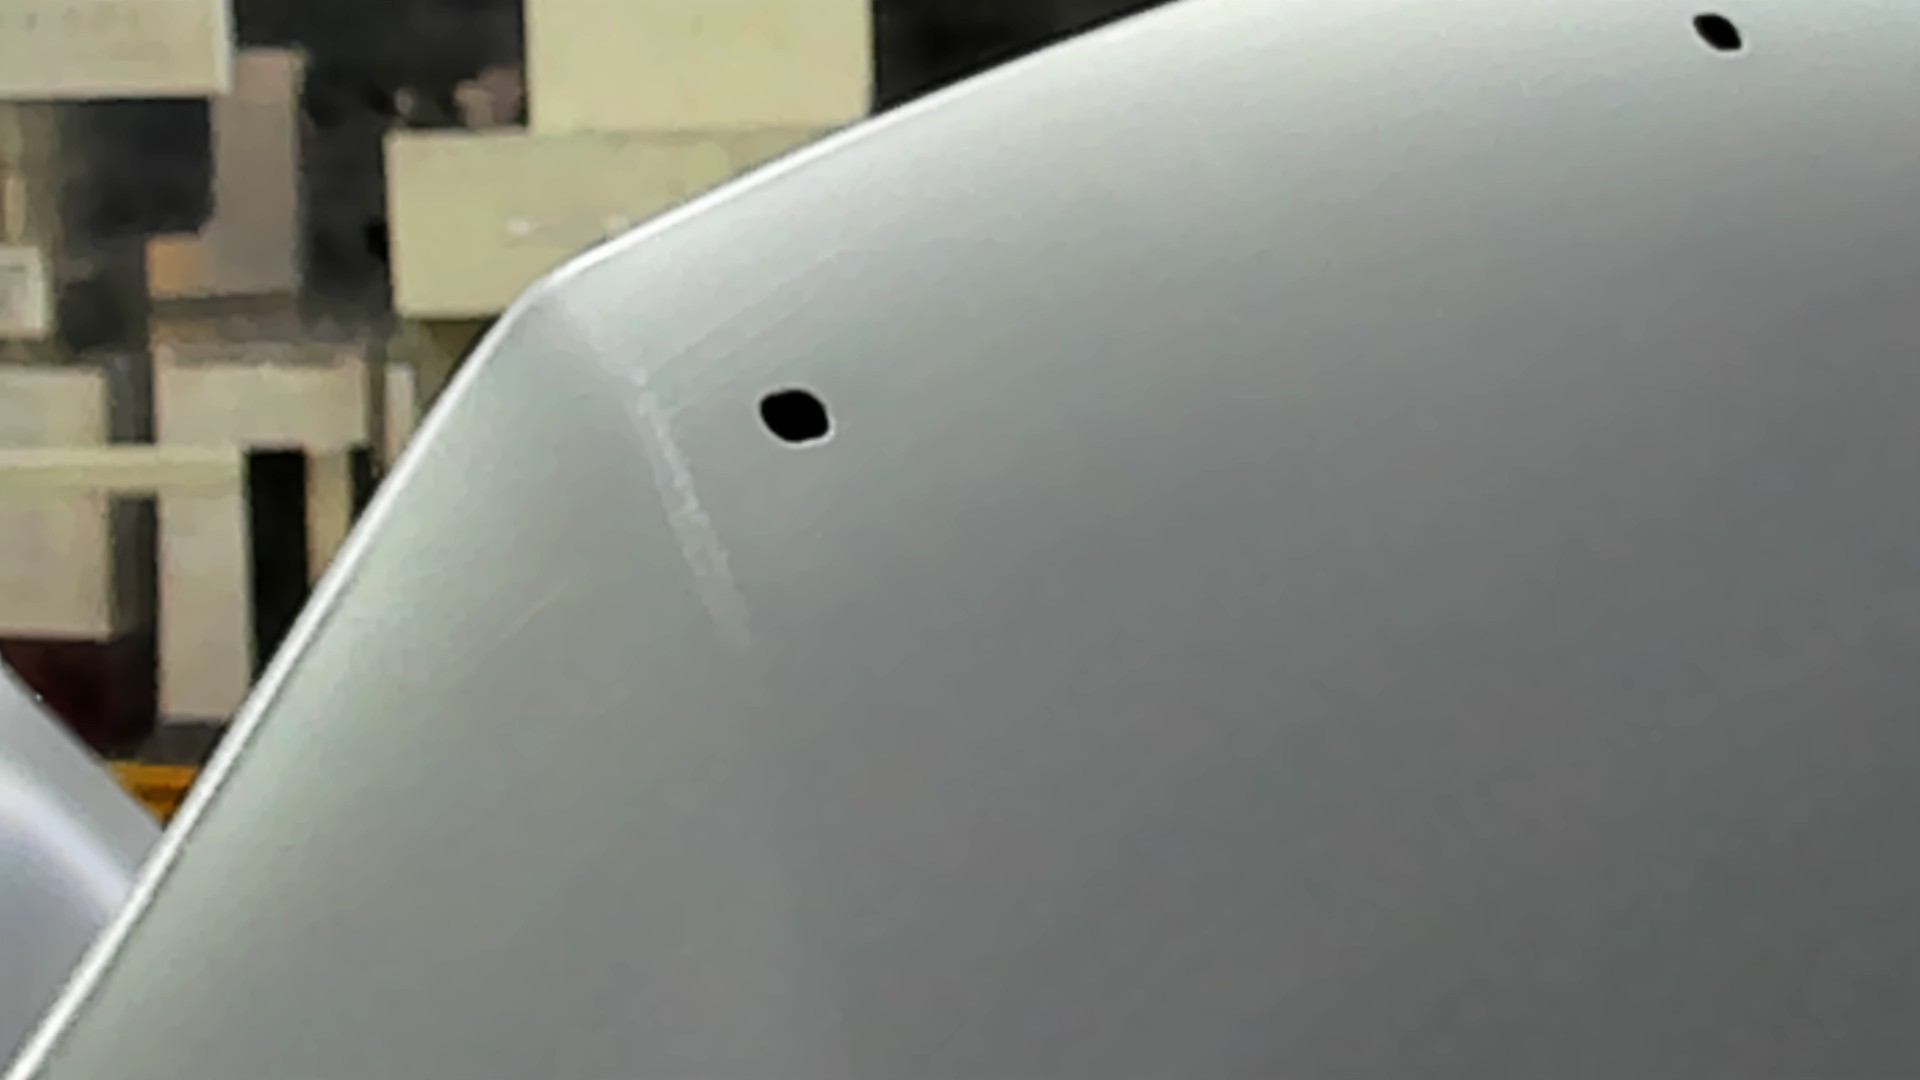amorfo: (756, 382, 839, 450), (1688, 9, 1749, 61)
